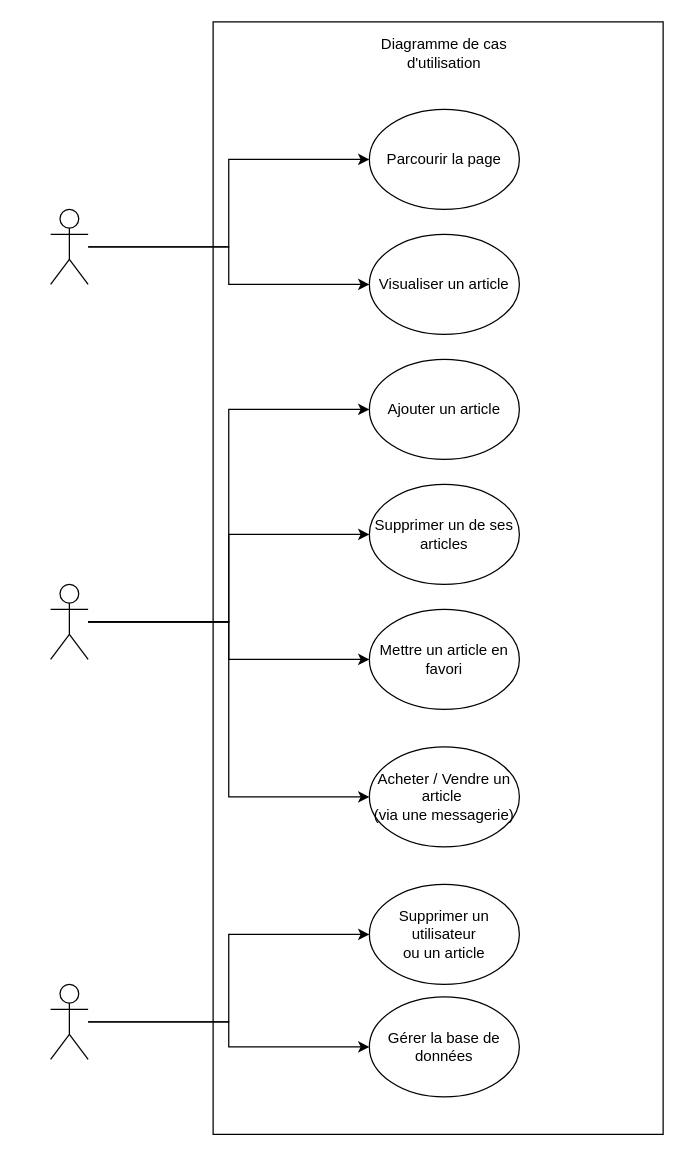
The diagram is 685 pixels wide and 1156 high, and some of its shapes have lost their labels. Here are the shapes that lost their labels. From the top down, the centre of each, then its label:
the point at 68,246: Visiteur
the point at 68,621: Utilisateur
the point at 68,1021: Administrateur
